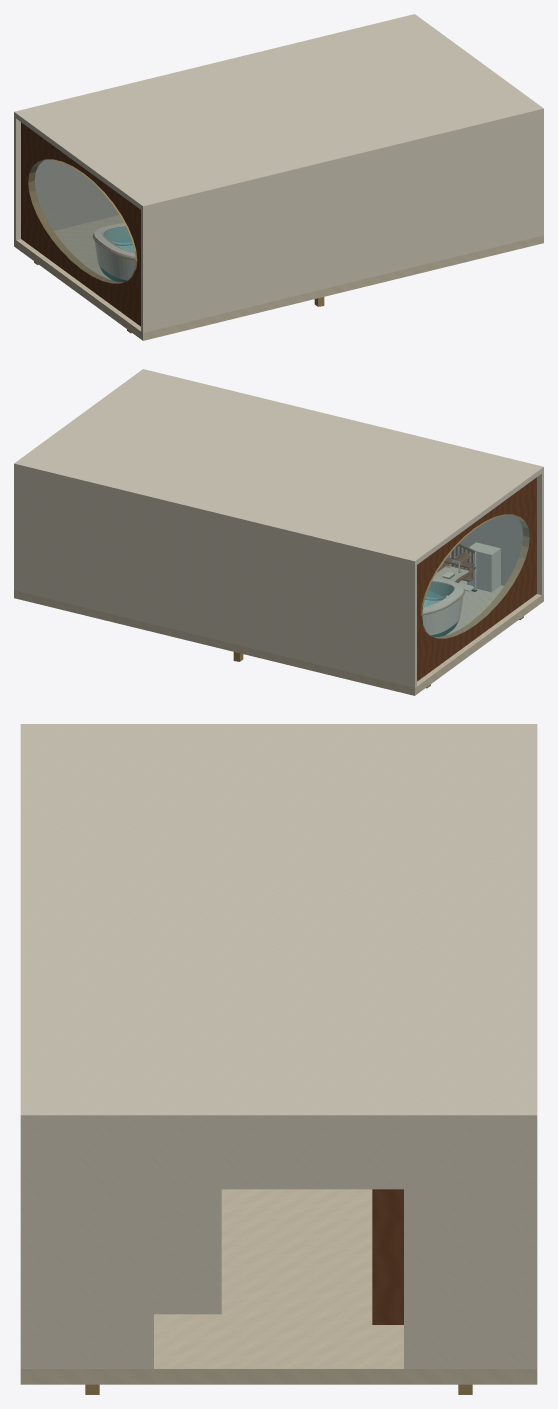
Rendered from NightGardenD15Specialty_488_r001.glb.
The picture shows the model from 3 angles, top to bottom: view 1: azimuth 30°, elevation 25°; view 2: azimuth 150°, elevation 25°; view 3: azimuth 270°, elevation 25°; orthographic projection. The views are drawn at different scales.
Visible parts, largest first — view 1: NG488_Ceiling, NG488_SouthSide, NG488_OvalAtriumGlass, NG488_RoomFloor, NG488_OvalWindowReveal, NG488_NorthSide, NG488_ReservedRestSupport__Hollow continuous basin shell wit, NG488_OvalDepthReturn; view 2: NG488_Ceiling, NG488_NorthSide, NG488_OvalAtriumGlass, NG488_RoomFloor, NG488_OvalWindowReveal, NG488_SouthSide, NG488_ReservedRestSupport__Hollow continuous basin shell wit, NG488_OvalDepthReturn, NG488_RinseServiceMount; view 3: NG488_Ceiling, NG488_RoomFloor, NG488_EntryShoulderSouth, NG488_EntryShoulderNorth, NG488_EntryHeader, NG488_WashEntrySide, NG488_EntryPrivacyDogleg, NG488_NorthSide, NG488_SouthSide.
Part boxes in pixels (box(x1,y1,x2,y2)): NG488_Ceiling: box(14, 14, 543, 211); NG488_SouthSide: box(141, 114, 543, 332); NG488_OvalAtriumGlass: box(28, 160, 135, 283); NG488_RoomFloor: box(14, 215, 543, 340); NG488_OvalWindowReveal: box(21, 122, 140, 326); NG488_NorthSide: box(14, 117, 119, 239); NG488_ReservedRestSupport__Hollow continuous basin shell wit: box(93, 223, 135, 281); NG488_OvalDepthReturn: box(28, 159, 137, 283); NG488_Ceiling: box(14, 369, 543, 566); NG488_NorthSide: box(14, 469, 416, 687); NG488_OvalAtriumGlass: box(422, 515, 529, 638); NG488_RoomFloor: box(14, 580, 543, 695); NG488_OvalWindowReveal: box(417, 477, 536, 681); NG488_SouthSide: box(440, 472, 543, 594); NG488_ReservedRestSupport__Hollow continuous basin shell wit: box(422, 578, 464, 636); NG488_OvalDepthReturn: box(420, 514, 529, 638); NG488_RinseServiceMount: box(467, 542, 500, 592); NG488_Ceiling: box(20, 724, 537, 1125); NG488_RoomFloor: box(20, 1189, 537, 1384); NG488_EntryShoulderSouth: box(29, 1125, 153, 1368); NG488_EntryShoulderNorth: box(404, 1125, 528, 1368); NG488_EntryHeader: box(150, 1125, 407, 1189); NG488_WashEntrySide: box(154, 1189, 221, 1314); NG488_EntryPrivacyDogleg: box(372, 1189, 403, 1324); NG488_NorthSide: box(528, 1125, 537, 1368); NG488_SouthSide: box(20, 1125, 29, 1368).
Size of the model in its own units: 12.9 by 4.91 by 7.2.
61 materials, 43 textured.
